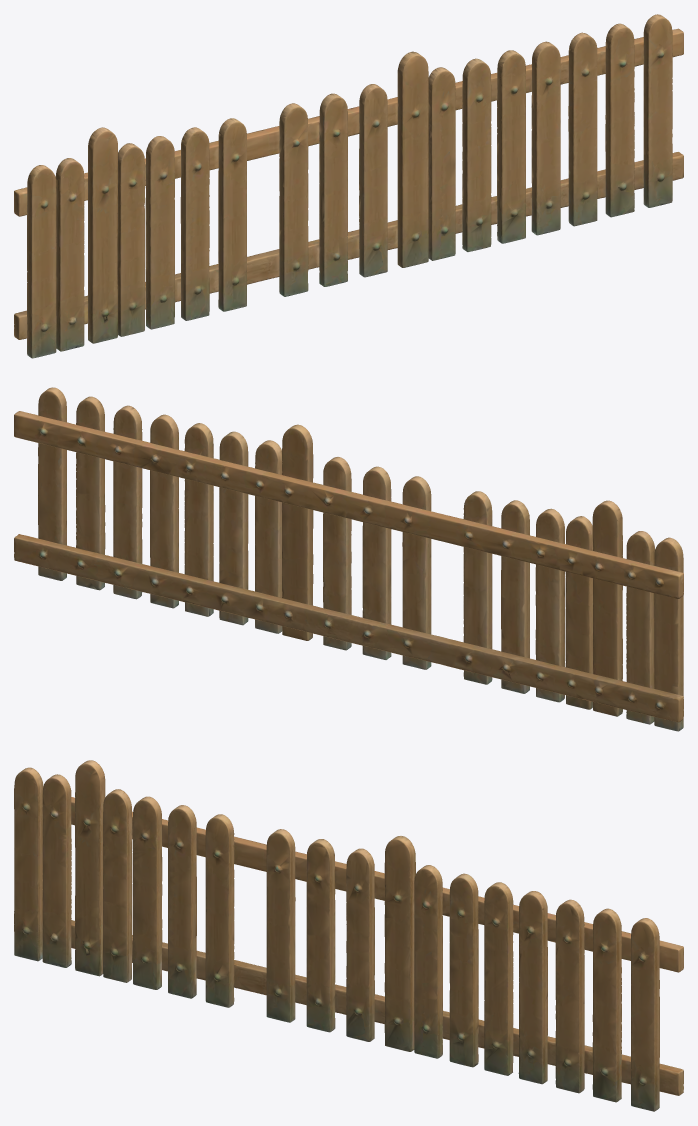
The model's file is meshy_fence_opt.glb.
3 views of the same model, one above another, from view 1: azimuth 30°, elevation 25°; view 2: azimuth 150°, elevation 25°; view 3: azimuth 330°, elevation 25° (orthographic).
Bounding box in the file's own units: 1.9 × 0.5719 × 0.0733.
Materials: 1 (1 with a texture image).
